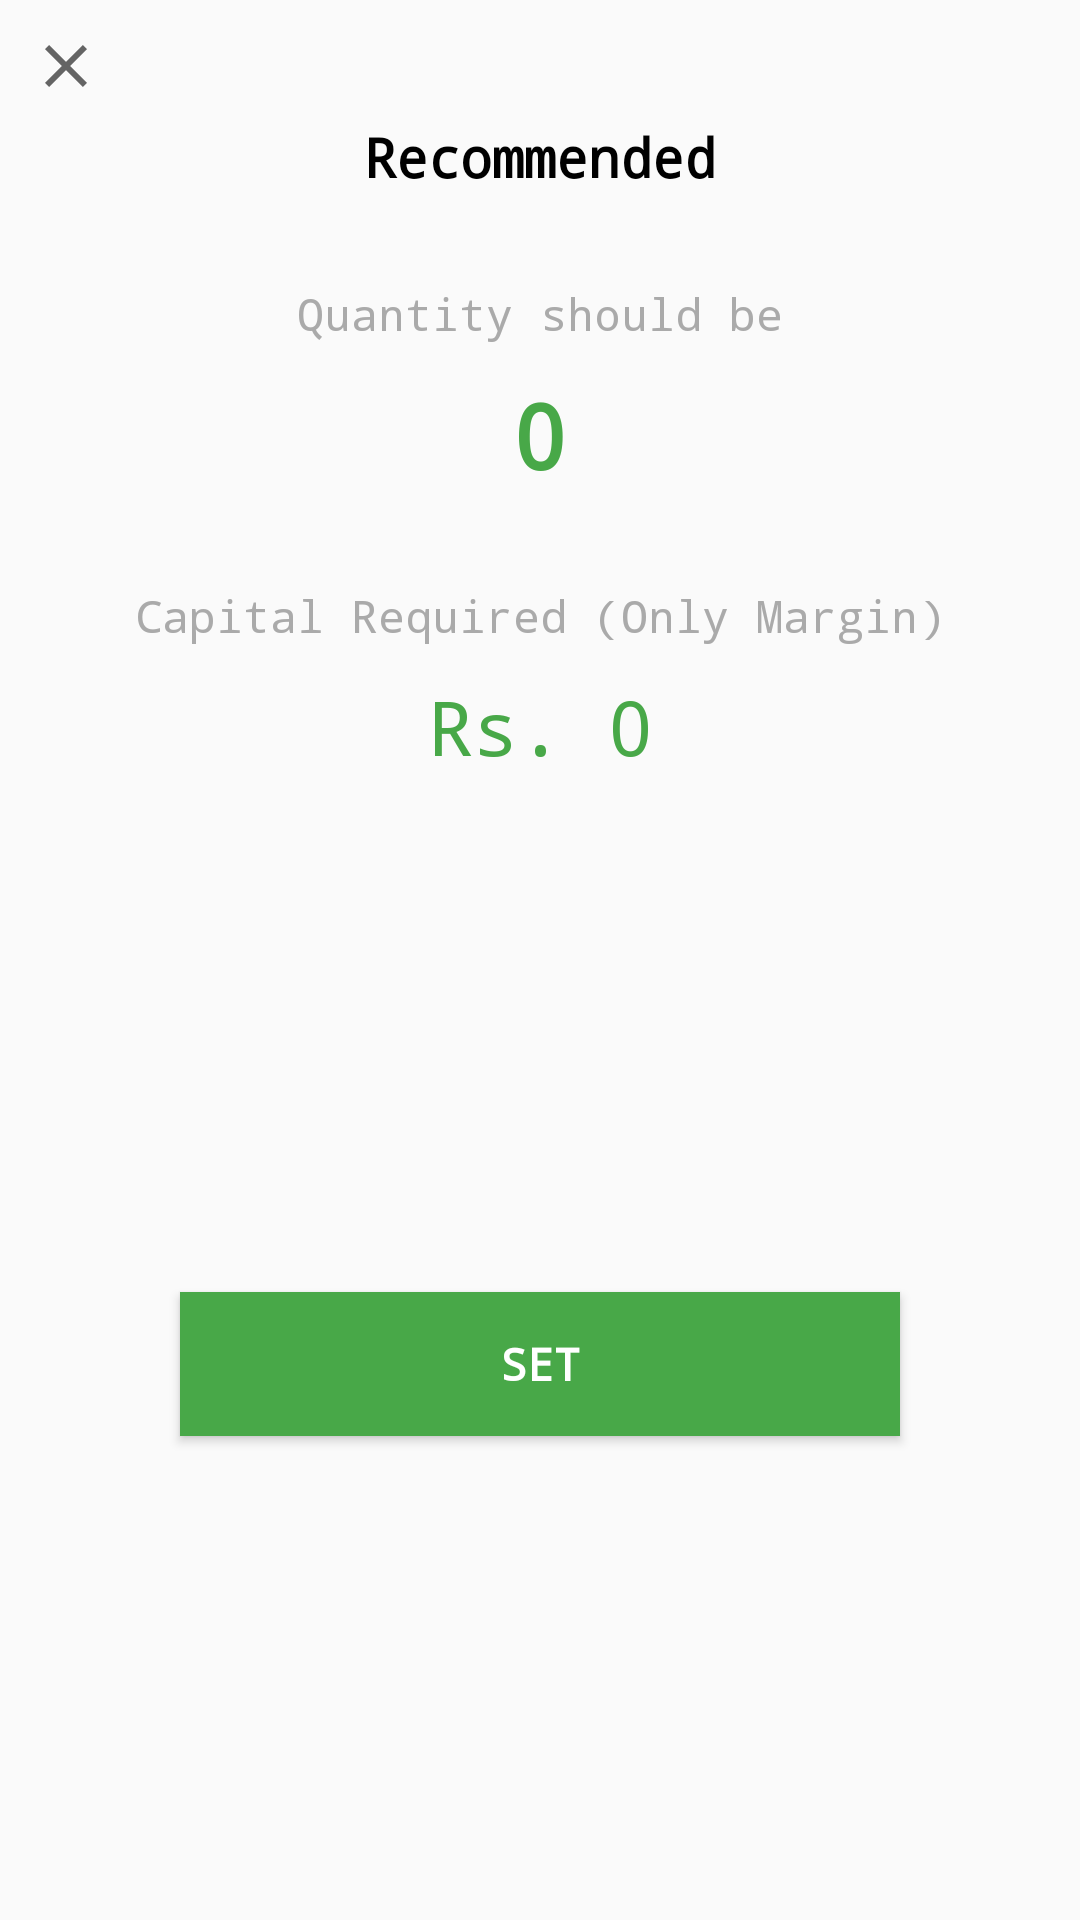

Point at icon controls on the screen. Image size 1080 x 1920, points as (x,y).
close: (66,66)
